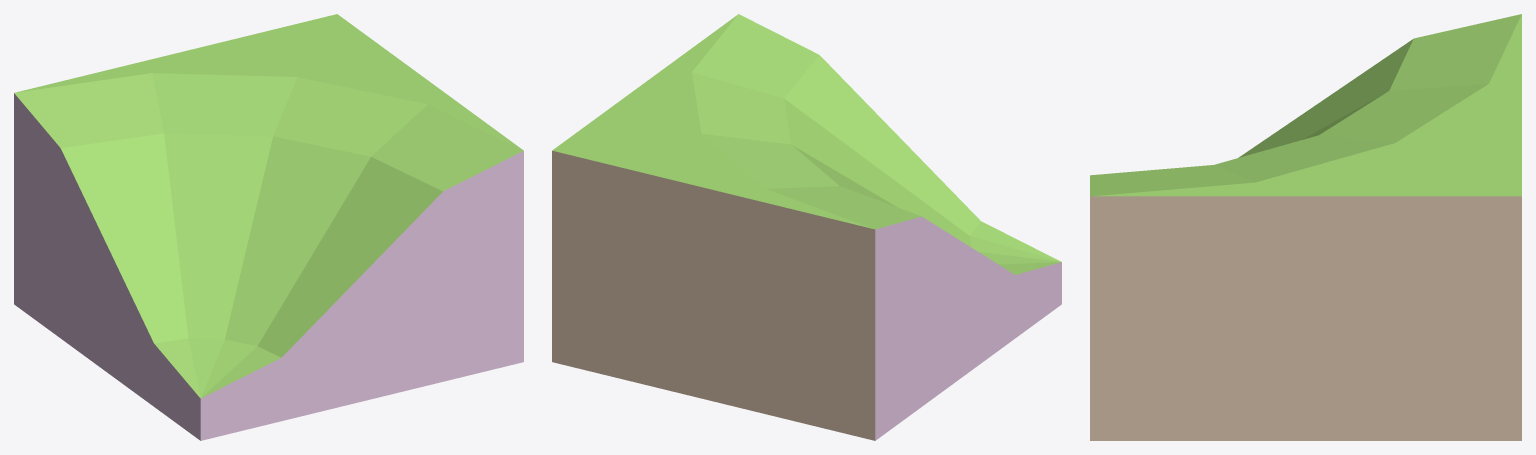
The model's file is Grass_Hill_Sharp_Curve_Inner_2x2.glb.
3 renders of one model, left to right at view 1: azimuth 30°, elevation 25°; view 2: azimuth 150°, elevation 25°; view 3: azimuth 270°, elevation 25°, orthographic. The views are drawn at different scales.
Visible parts, largest first — view 1: Grass_Hill_Sharp_Curve_Inner_2x2; view 2: Grass_Hill_Sharp_Curve_Inner_2x2; view 3: Grass_Hill_Sharp_Curve_Inner_2x2.
Boxes of the visible parts, x1,y1,x2,y2 form: Grass_Hill_Sharp_Curve_Inner_2x2: (14, 14, 523, 440); Grass_Hill_Sharp_Curve_Inner_2x2: (552, 14, 1061, 440); Grass_Hill_Sharp_Curve_Inner_2x2: (1090, 14, 1521, 440).
Size of the model in its own units: 200 by 125 by 200.
